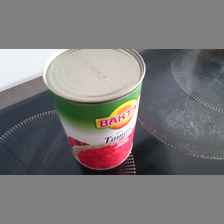tomato_sauce: (41, 49, 147, 170)
